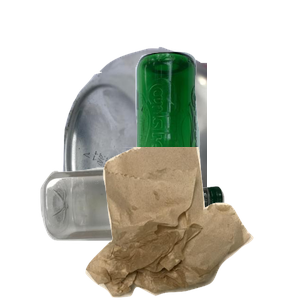glass: (129, 49, 300, 229)
metal: (60, 44, 300, 224)
plastic: (38, 165, 255, 300)
trash: (83, 147, 300, 300)
